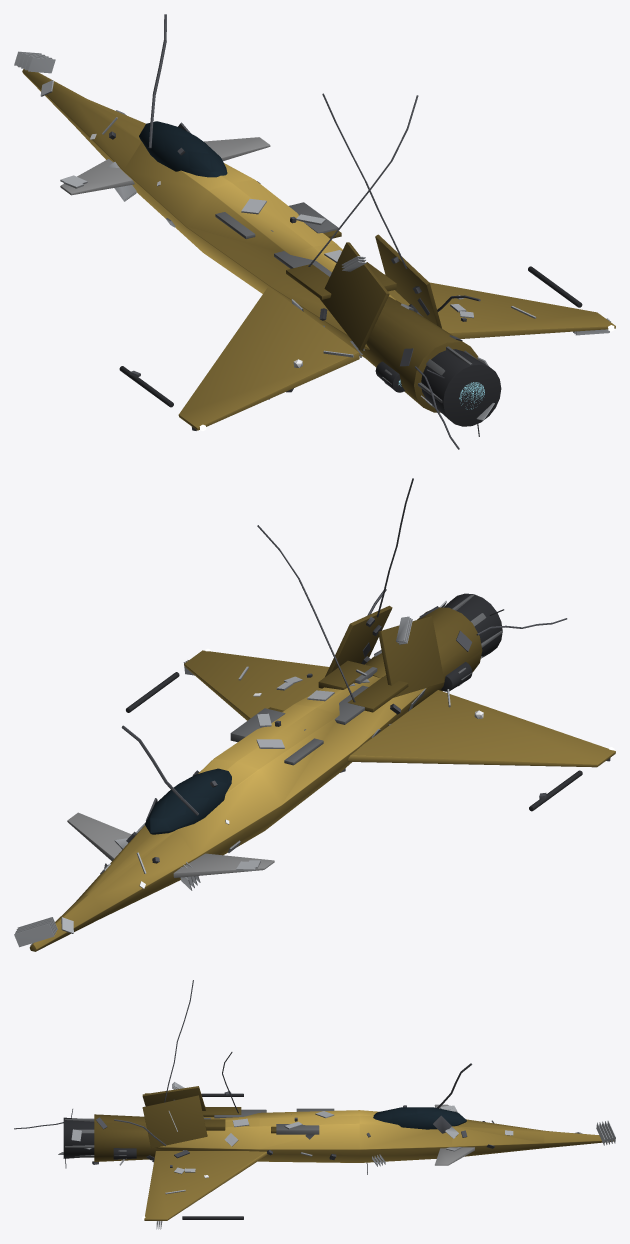
File: ship_wasp.glb
3 views of the same model, one above another, from view 1: azimuth 30°, elevation 25°; view 2: azimuth 150°, elevation 25°; view 3: azimuth 270°, elevation 25° (orthographic). The views are drawn at different scales.
Parts seen in each view (by area): view 1: ShipWasp; view 2: ShipWasp; view 3: ShipWasp.
Boxes of the visible parts, x1=… form: ShipWasp: x1=14, y1=14, x2=615, y2=449; ShipWasp: x1=14, y1=478, x2=615, y2=951; ShipWasp: x1=14, y1=980, x2=615, y2=1229.
Bounding box in the file's own units: 7.84 × 5.14 × 15.65.
